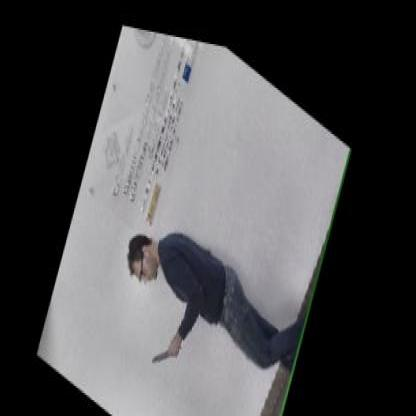knife: (152, 319, 182, 368)
